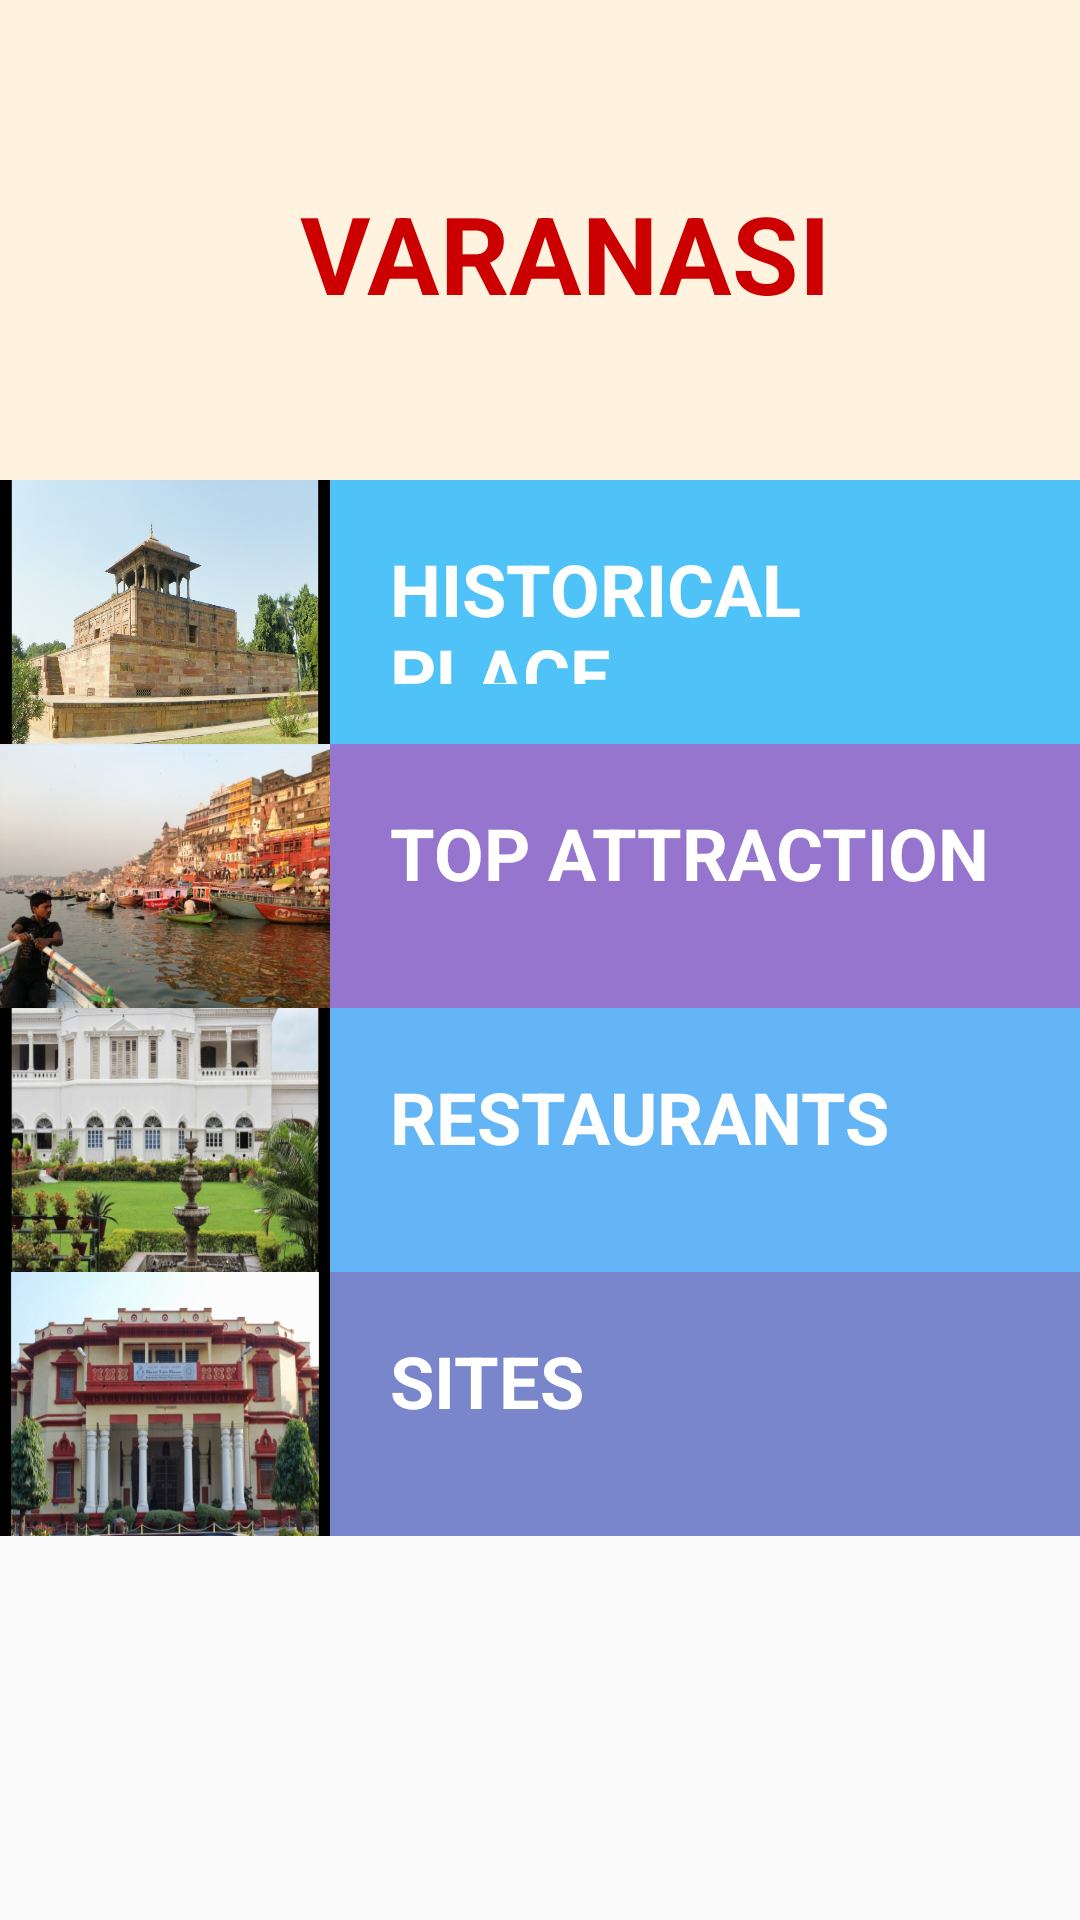

Where to tap for icons on this 1080px×1920px app screen, as (x=x, y=y):
ganga: (x=165, y=876)
